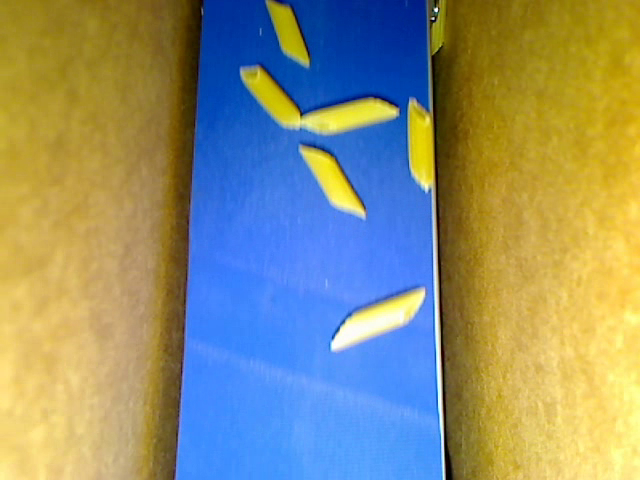penne: (326, 286, 428, 351), (298, 143, 365, 221), (295, 92, 401, 134), (234, 65, 297, 131), (261, 1, 314, 69), (408, 93, 435, 201), (427, 1, 445, 58)
